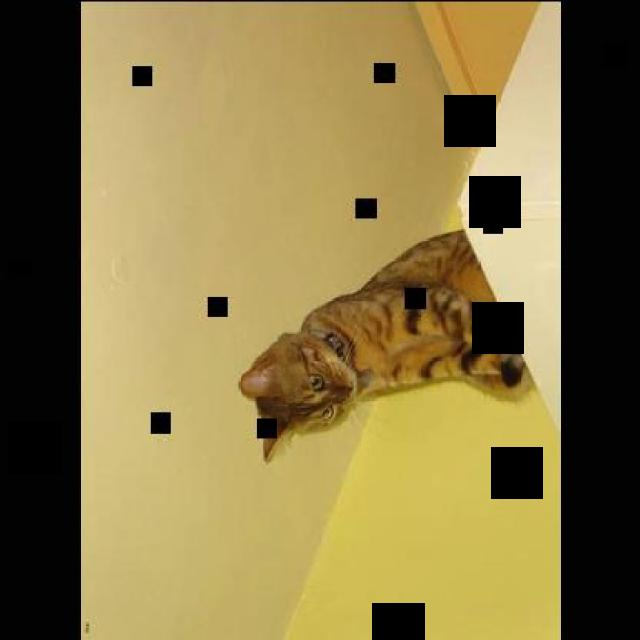unauthorized: (237, 228, 534, 463)
